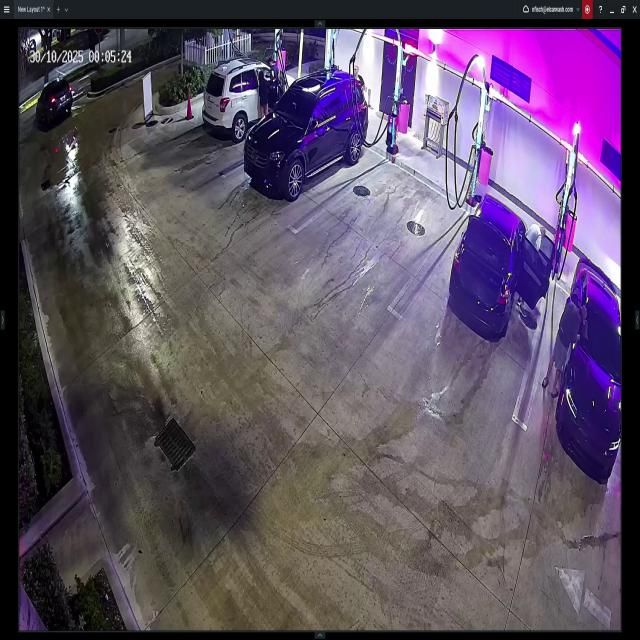Car: (449, 192, 555, 340), (244, 66, 366, 192), (557, 253, 623, 476), (205, 49, 297, 140), (36, 81, 71, 126)
